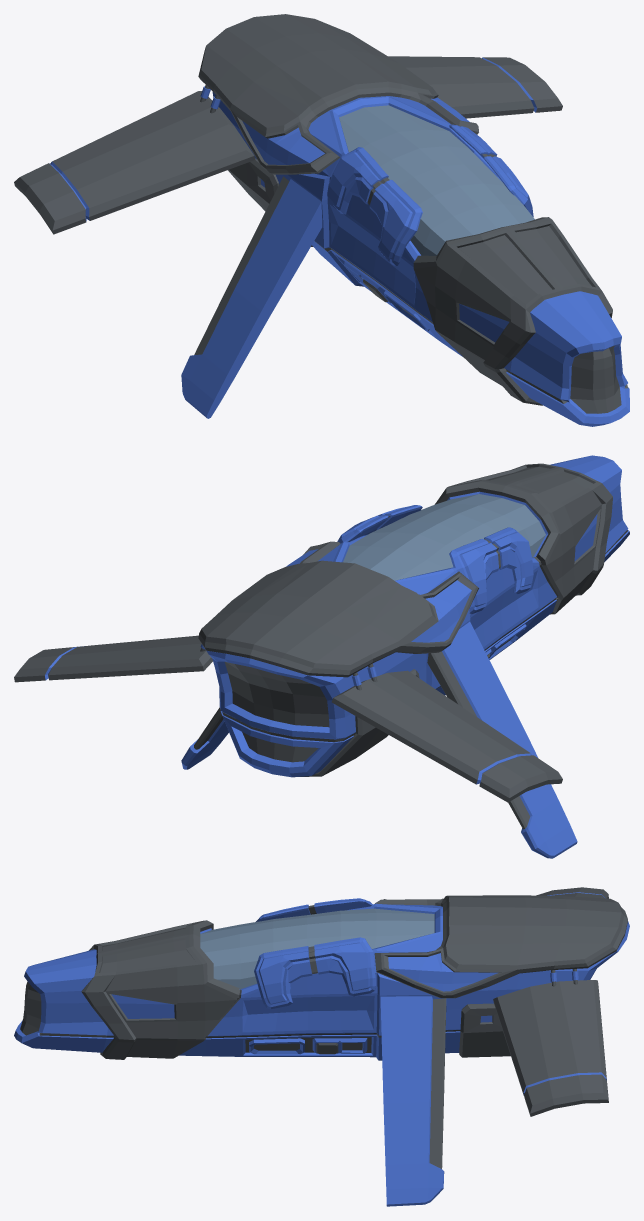
Rendered from Fighter_06_Blue.fbx.
The picture shows the model from 3 angles, top to bottom: view 1: azimuth 30°, elevation 25°; view 2: azimuth 150°, elevation 25°; view 3: azimuth 270°, elevation 25°; orthographic projection. The views are drawn at different scales.
Parts seen in each view (by area): view 1: Fighter_06_Blue; view 2: Fighter_06_Blue; view 3: Fighter_06_Blue.
Boxes of the visible parts, <box> form: Fighter_06_Blue: <box>14,14,629,426</box>; Fighter_06_Blue: <box>14,455,629,858</box>; Fighter_06_Blue: <box>14,887,629,1206</box>.
Bounding box in the file's own units: 1051 × 517 × 1291.
3 materials, 3 textured.
